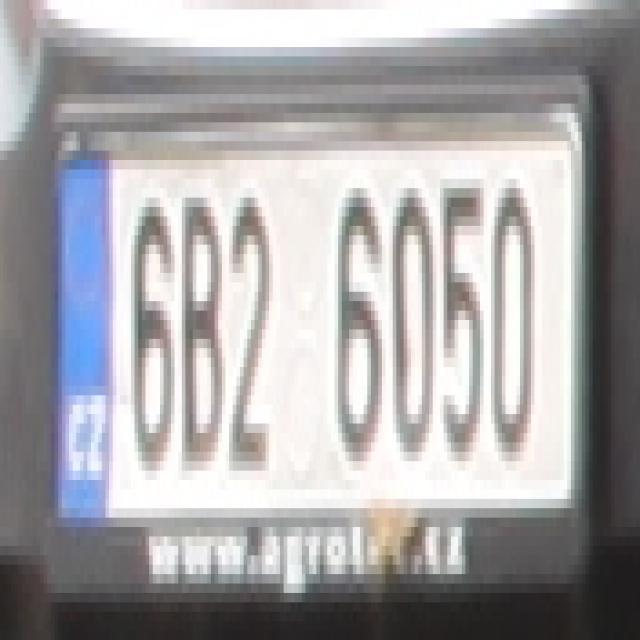0: (487, 169, 535, 452), (385, 169, 433, 452)
2: (226, 179, 270, 480)
5: (432, 170, 483, 442)
6: (124, 188, 172, 480), (331, 179, 378, 452)
B: (182, 188, 226, 461)
